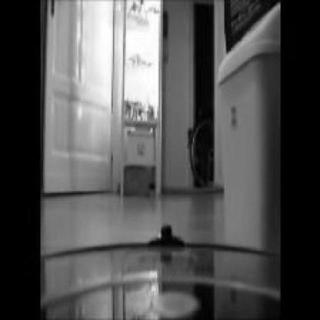other: (137, 22, 159, 116)
